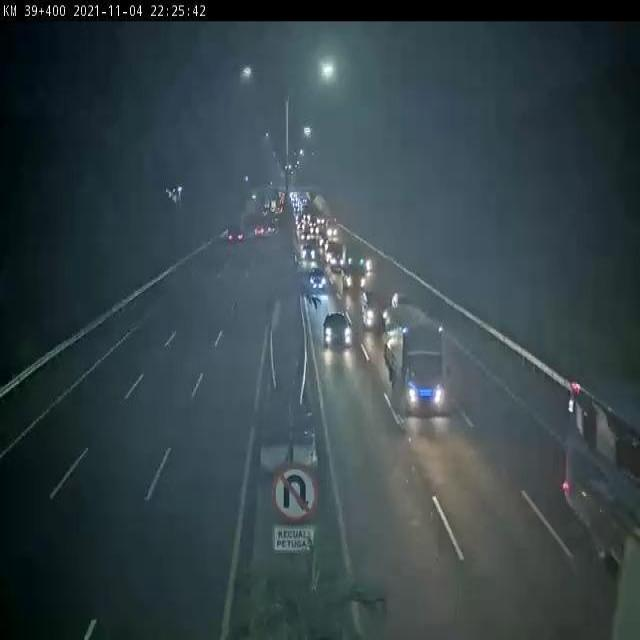Bus: (544, 376, 639, 574)
Car: (317, 305, 360, 354), (358, 291, 390, 330), (342, 264, 368, 296), (307, 265, 333, 295), (350, 248, 373, 274), (327, 245, 346, 272), (252, 222, 271, 244), (300, 240, 316, 266), (226, 226, 243, 249)
Truck: (370, 299, 458, 422)
